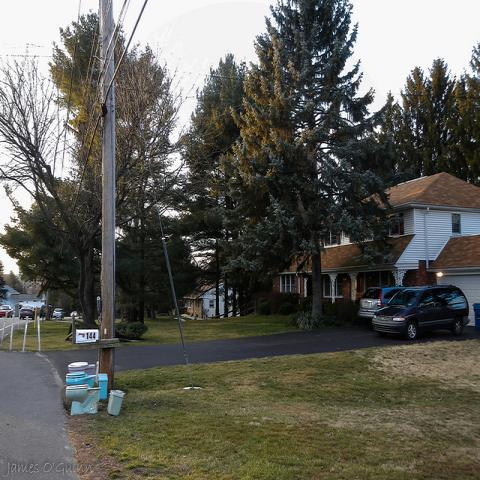car: (372, 285, 470, 340), (357, 287, 382, 319), (40, 305, 78, 318), (19, 304, 37, 320), (0, 304, 14, 318)
